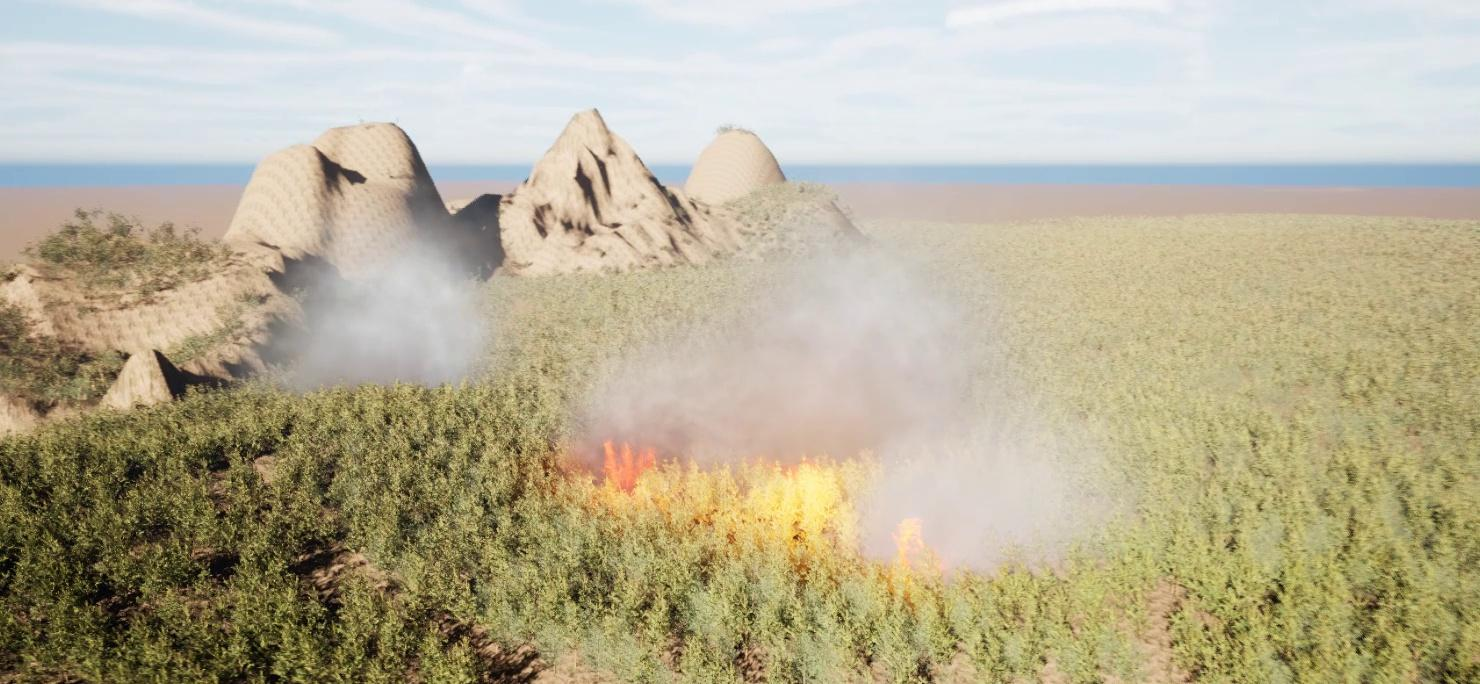fire: (707, 455, 866, 535), (590, 438, 662, 488), (886, 520, 939, 576)
smoke: (559, 205, 1137, 574), (269, 215, 498, 394)
